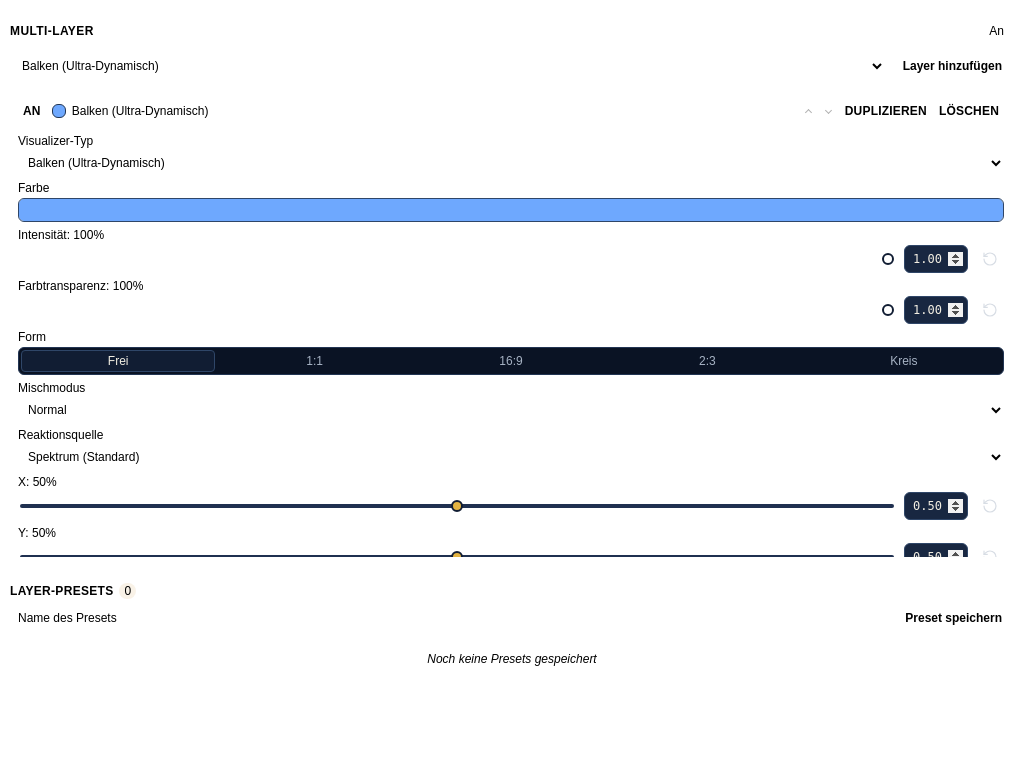
it: VisualizerLayerPanel – Preset speichern › speichert die aktuellen Layer mit Namen und zeigt sie in der Liste
Expected: the element with class "layer-presets" is shown, [10,575,1014,681]
Expected: the text "Noch keine Presets gespeichert" is shown, [427,652,597,666]
In the field with placeholder "Name des Presets": point(449, 618) [10,605,887,631], type "Mein Set"
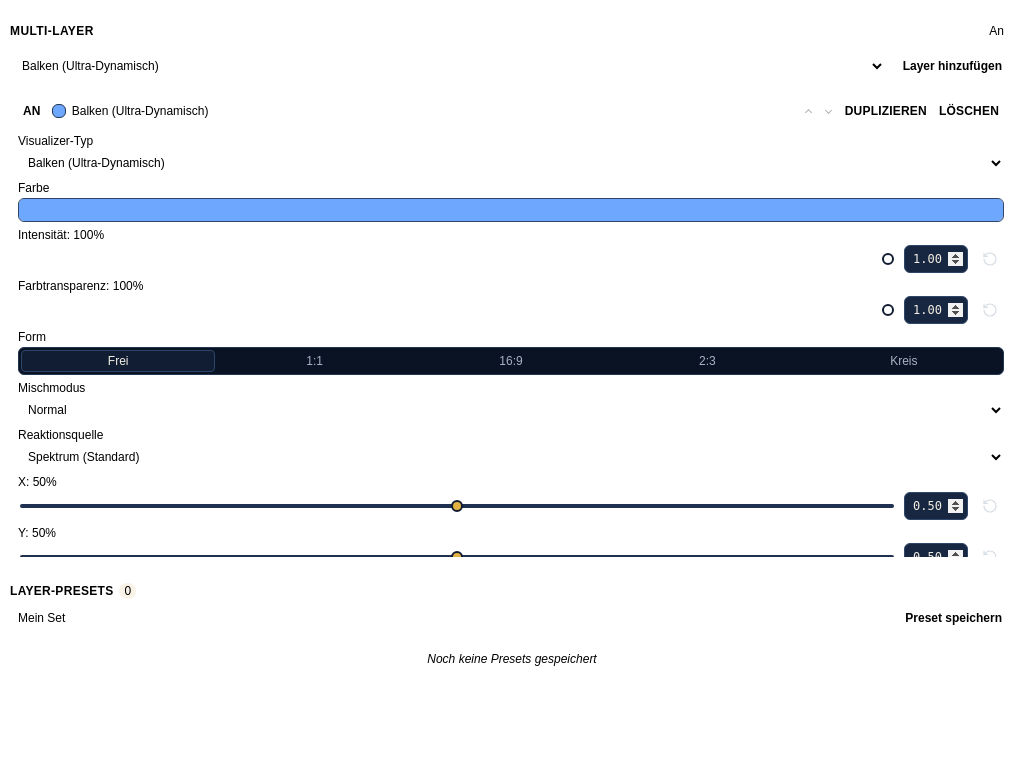
Click the button with class "save-preset-btn": point(954, 618) [893,605,1014,631]
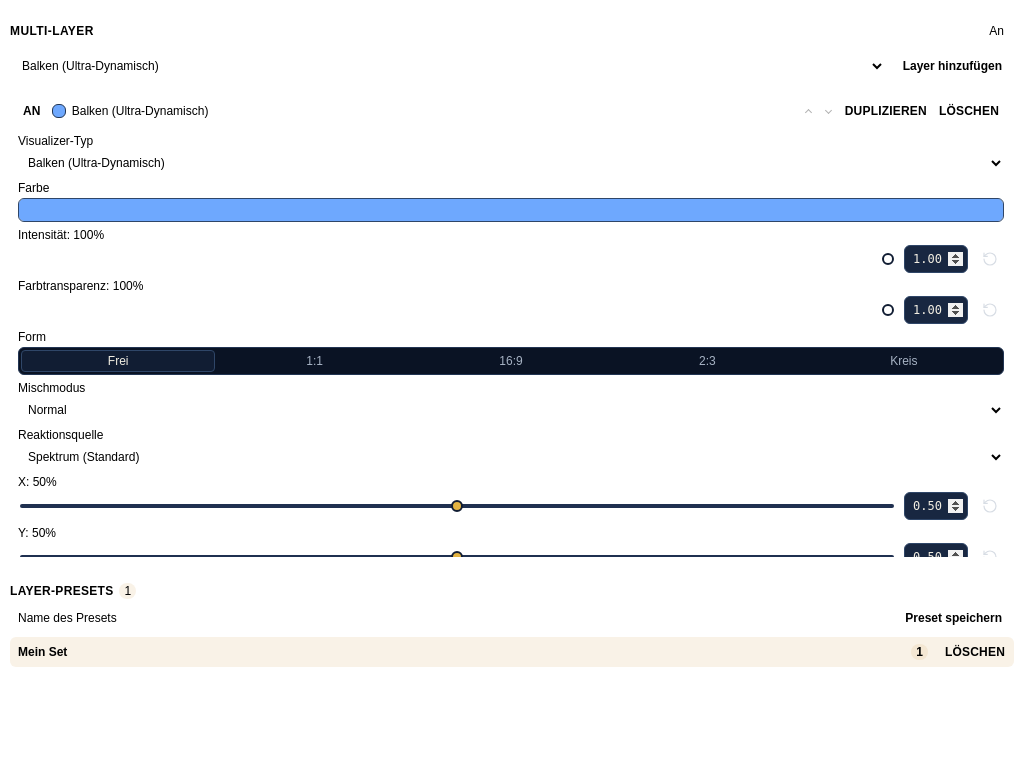
Result: the text "Mein Set" is shown at [18,645,67,659]
Result: the field with placeholder "Name des Presets" is empty at [10,605,887,631]
